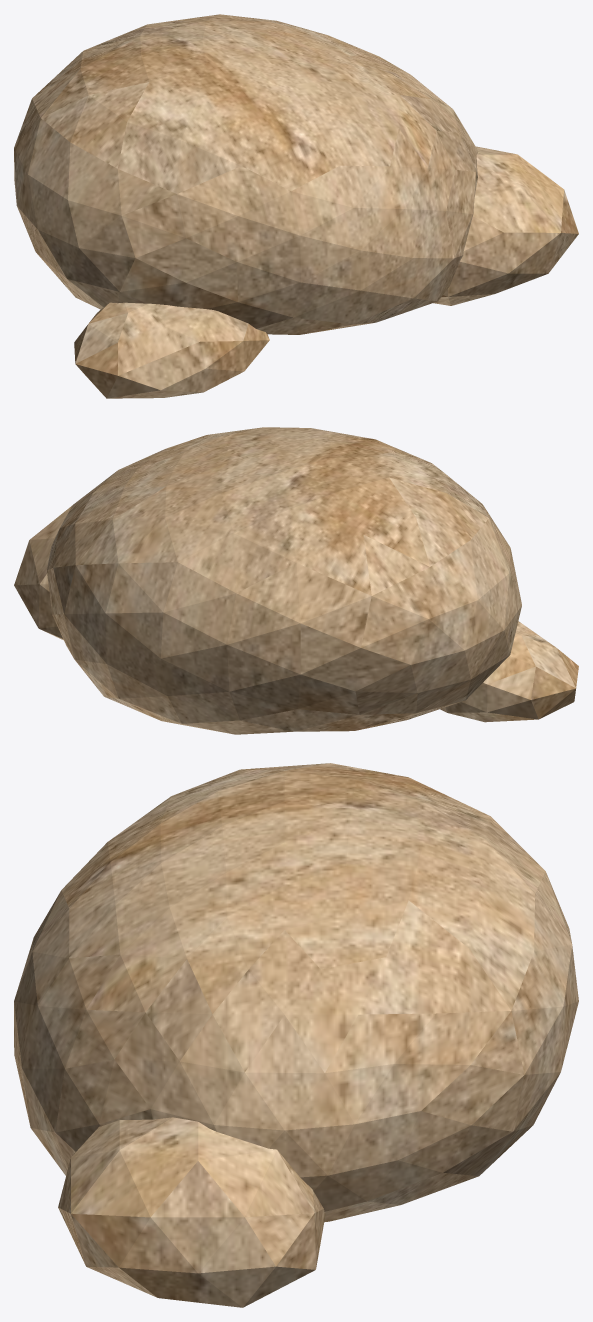
The model's file is rock_c_v2_tex.glb.
3 views of the same model, one above another, from view 1: azimuth 30°, elevation 25°; view 2: azimuth 150°, elevation 25°; view 3: azimuth 270°, elevation 25° (orthographic). The views are drawn at different scales.
Visible parts, largest first — view 1: rock_c_v2; view 2: rock_c_v2; view 3: rock_c_v2.
Boxes of the visible parts, x1,y1,x2,y2 form: rock_c_v2: [14, 14, 578, 398]; rock_c_v2: [14, 427, 578, 734]; rock_c_v2: [14, 763, 578, 1307].
Size of the model in its own units: 1.96 by 0.9413 by 1.44.
1 material, 1 textured.
